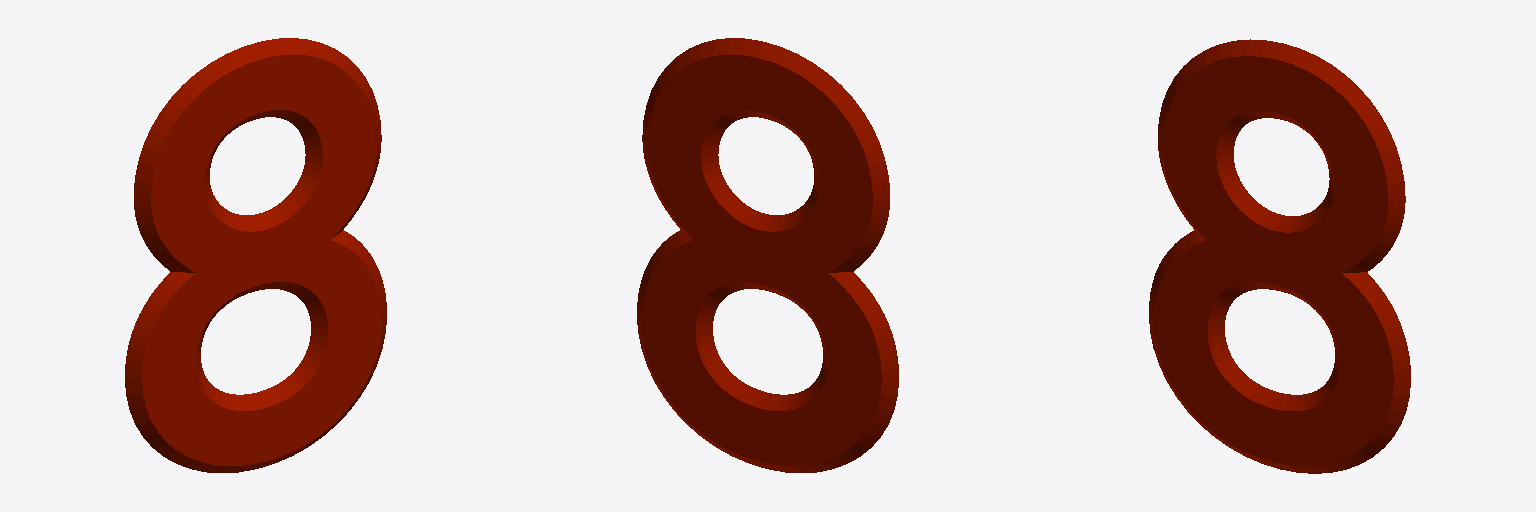
File: eight.obj
The picture shows the model from 3 angles: view 1: azimuth 30°, elevation 25°; view 2: azimuth 150°, elevation 25°; view 3: azimuth 330°, elevation 25°; orthographic projection.
Visible parts, largest first — view 1: Text.008; view 2: Text.008; view 3: Text.008.
Boxes of the visible parts, <box> form: Text.008: <box>125,38,386,472</box>; Text.008: <box>637,38,898,472</box>; Text.008: <box>1149,39,1410,473</box>.
Size of the model in its own units: 0.0476 by 0.074 by 0.004.